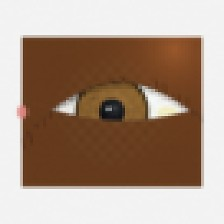pinguecula_lesion: (147, 96, 189, 129)
